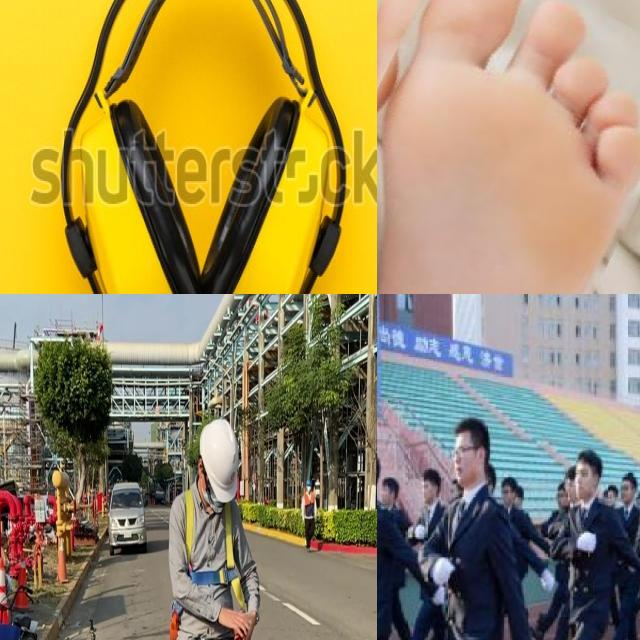Barefoots: (377, 0, 640, 294)
Ear-protection: (210, 95, 331, 294), (75, 106, 200, 294)
Harness: (185, 490, 246, 608)
face_nomask: (450, 444, 484, 490), (573, 468, 595, 499)
hand_glove: (430, 548, 455, 586), (578, 528, 596, 558), (541, 567, 555, 593), (432, 584, 448, 605), (416, 520, 427, 534)
head_nohelmet: (453, 408, 492, 439), (415, 465, 441, 487), (575, 456, 601, 471), (377, 444, 388, 470)
person: (438, 408, 541, 640), (545, 445, 617, 640), (377, 436, 422, 640)
